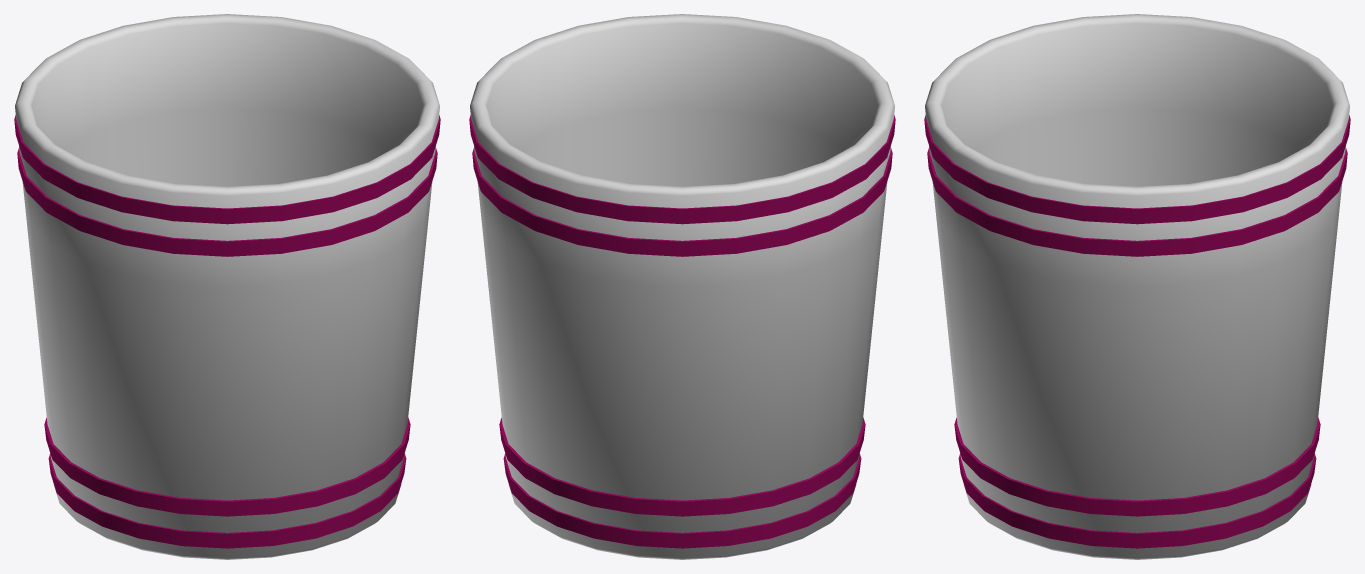
The model's file is Bucket.fbx.
3 renders of one model, left to right at view 1: azimuth 30°, elevation 25°; view 2: azimuth 150°, elevation 25°; view 3: azimuth 270°, elevation 25°, orthographic.
Visible parts, largest first — view 1: Bucket; view 2: Bucket; view 3: Bucket.
Part boxes in pixels (x1,y1,x2,y2): Bucket: [14, 14, 440, 559]; Bucket: [469, 14, 895, 559]; Bucket: [924, 14, 1350, 559].
Bounding box in the file's own units: 0.5004 × 0.5004 × 0.5.
